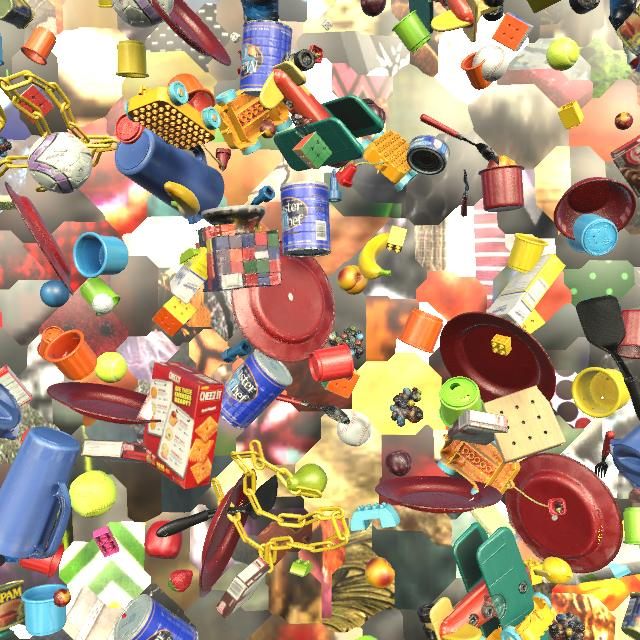ycb_002_master_chef_can: (220, 349, 293, 430), (239, 20, 293, 102), (113, 594, 198, 640), (280, 181, 331, 257)
ycb_003_cracker_box: (143, 362, 224, 489)
ycb_004_sugar_box: (487, 254, 566, 327), (170, 225, 220, 305), (527, 0, 561, 14)
ycb_007_tuna_fish_can: (406, 135, 450, 175)
ycb_008_pudding_box: (215, 556, 271, 620), (447, 409, 508, 446), (610, 135, 640, 198), (81, 439, 147, 463)
ycb_009_gelatin_box: (0, 365, 32, 407), (137, 391, 153, 426)
ycb_010_potted_meat_can: (616, 4, 640, 59), (0, 580, 25, 632), (0, 0, 34, 29), (621, 592, 640, 640)
ycb_011_banana: (358, 232, 391, 279), (164, 182, 200, 217)
ycb_012_strawberry: (168, 569, 193, 593)
ycb_013_apple: (144, 520, 182, 559), (121, 613, 127, 619)
ycb_014_lemon: (542, 557, 573, 584)
ycb_015_peach: (365, 557, 395, 589), (337, 265, 367, 295), (487, 155, 516, 168)
ycb_016_pear: (285, 463, 327, 498)
ycb_018_plum: (385, 450, 412, 477), (360, 0, 386, 17), (367, 104, 386, 124)
